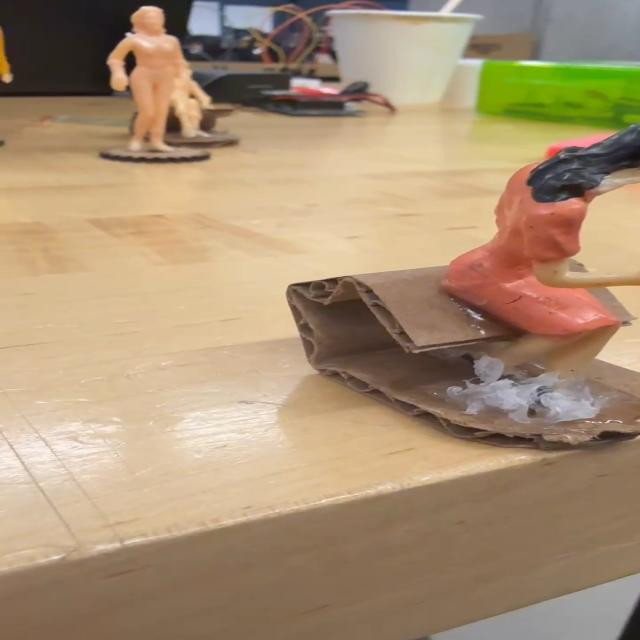Authorized: (428, 115, 640, 403)
